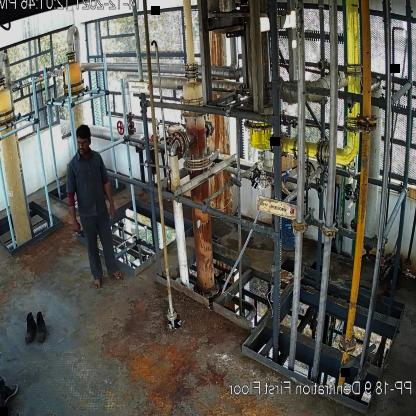no_shoes: (107, 270, 124, 280), (93, 277, 104, 292)
shoes: (32, 310, 48, 344), (23, 313, 36, 342)
